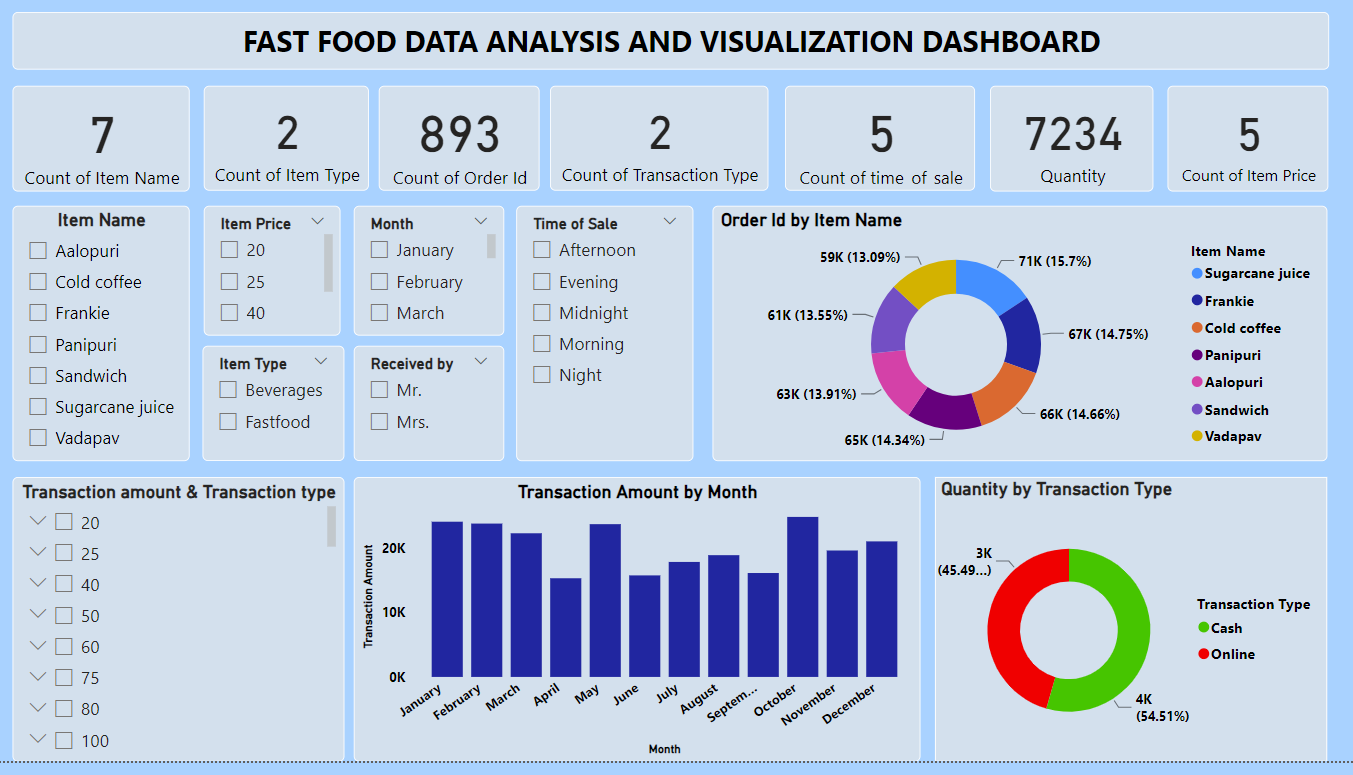

The page's visual inventory and layout, read from the dashboard file:
{"tool":"powerbi","page":{"name":"Page 1","canvas":[1280,720],"ordinal":0},"visuals":[{"type":"textbox","box":[20.9,23.3,1224.4,53.5],"z":0},{"type":"slicer","title":"Item Name","fields":{"Values":["Balaji Fast Food Sales.item_name"]},"box":[20.6,203,164.6,237.3],"z":1000},{"type":"columnChart","title":"Transaction Amount by Month","fields":{"Y":["Sum(Balaji Fast Food Sales.transaction_amount)"],"Category":["Balaji Fast Food Sales.date.Variation.Date Hierarchy.Month"]},"box":[338.9,455.5,526.8,264.8],"z":2000},{"type":"slicer","fields":{"Values":["Balaji Fast Food Sales.item_type"]},"box":[197.6,333.4,131.7,107],"z":3000},{"type":"slicer","fields":{"Values":["Balaji Fast Food Sales.item_price"]},"box":[198.9,203,127.6,120.7],"z":4000},{"type":"slicer","fields":{"Values":["Balaji Fast Food Sales.time_of_sale"]},"box":[489.8,203,164.6,237.3],"z":5000},{"type":"slicer","title":"Transaction amount & Transaction type","fields":{"Values":["Balaji Fast Food Sales.transaction_amount","Balaji Fast Food Sales.transaction_type"]},"box":[20.6,455.5,308.7,264.8],"z":6000},{"type":"slicer","fields":{"Values":["Balaji Fast Food Sales.received_by"]},"box":[338.9,333.4,139.9,107],"z":7000},{"type":"card","fields":{"Values":["Count(Balaji Fast Food Sales.item_name)"]},"box":[20.6,91.9,164.6,98.8],"z":8000},{"type":"card","fields":{"Values":["Count(Balaji Fast Food Sales.item_type)"]},"box":[198.9,91.9,153.7,97.4],"z":9000},{"type":"card","fields":{"Values":["Count(Balaji Fast Food Sales.order_id)"]},"box":[362.2,91.9,149.5,97.4],"z":10000},{"type":"card","fields":{"Values":["Count(Balaji Fast Food Sales.transaction_type)"]},"box":[521.3,91.9,203,97.4],"z":11000},{"type":"card","fields":{"Values":["Count(Balaji Fast Food Sales.time_of_sale)"]},"box":[739.5,91.9,177,97.4],"z":12000},{"type":"slicer","fields":{"Values":["Balaji Fast Food Sales.date.Variation.Date Hierarchy.Month"]},"box":[338.9,203,139.9,120.7],"z":13000},{"type":"card","fields":{"Values":["Sum(Balaji Fast Food Sales.quantity)"]},"box":[930.2,91.9,152.3,98.8],"z":14000},{"type":"card","fields":{"Values":["Count(Balaji Fast Food Sales.item_price)"]},"box":[1094.8,91.9,149.5,98.8],"z":15000},{"type":"donutChart","title":"Order Id by Item Name","fields":{"Category":["Balaji Fast Food Sales.item_name"],"Y":["Sum(Balaji Fast Food Sales.order_id)"]},"box":[672.2,203,572.1,237.3],"z":16000},{"type":"donutChart","title":"Quantity by Transaction Type","fields":{"Category":["Balaji Fast Food Sales.transaction_type"],"Y":["Sum(Balaji Fast Food Sales.quantity)"]},"box":[879.4,455.5,364.9,264.8],"z":17000}]}

Visuals, with their boxes in screenshot pixels (x1, y1, x2, y2), scaled from the page's 1280x720 canvas onto the 1353x775 screenshot:
textbox: [left=22, top=25, right=1316, bottom=83]
"Item Name" slicer: [left=22, top=219, right=196, bottom=474]
"Transaction Amount by Month" columnChart: [left=358, top=490, right=915, bottom=774]
slicer - Balaji Fast Food Sales.item_type: [left=209, top=359, right=348, bottom=474]
slicer - Balaji Fast Food Sales.item_price: [left=210, top=219, right=345, bottom=348]
slicer - Balaji Fast Food Sales.time_of_sale: [left=518, top=219, right=692, bottom=474]
"Transaction amount & Transaction type" slicer: [left=22, top=490, right=348, bottom=774]
slicer - Balaji Fast Food Sales.received_by: [left=358, top=359, right=506, bottom=474]
card - Count(Balaji Fast Food Sales.item_name): [left=22, top=99, right=196, bottom=205]
card - Count(Balaji Fast Food Sales.item_type): [left=210, top=99, right=373, bottom=204]
card - Count(Balaji Fast Food Sales.order_id): [left=383, top=99, right=541, bottom=204]
card - Count(Balaji Fast Food Sales.transaction_type): [left=551, top=99, right=766, bottom=204]
card - Count(Balaji Fast Food Sales.time_of_sale): [left=782, top=99, right=969, bottom=204]
slicer - Balaji Fast Food Sales.date.Variation.Date Hierarchy.Month: [left=358, top=219, right=506, bottom=348]
card - Sum(Balaji Fast Food Sales.quantity): [left=983, top=99, right=1144, bottom=205]
card - Count(Balaji Fast Food Sales.item_price): [left=1157, top=99, right=1315, bottom=205]
"Order Id by Item Name" donutChart: [left=711, top=219, right=1315, bottom=474]
"Quantity by Transaction Type" donutChart: [left=930, top=490, right=1315, bottom=774]
